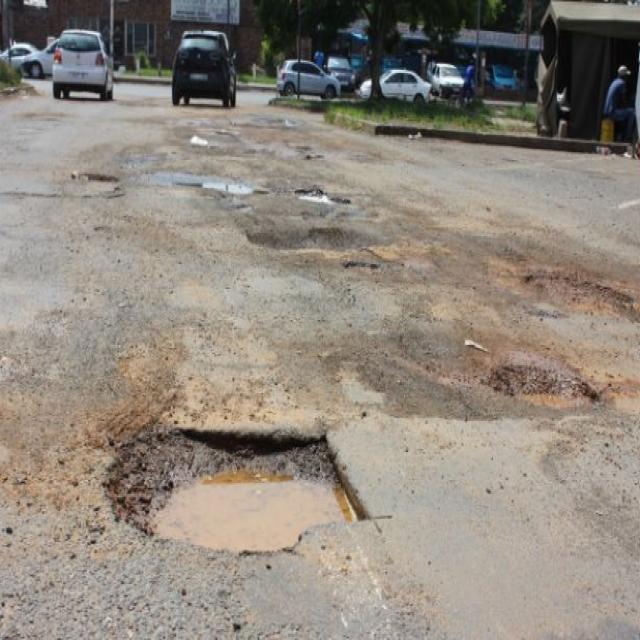pothole: (102, 414, 374, 562)
